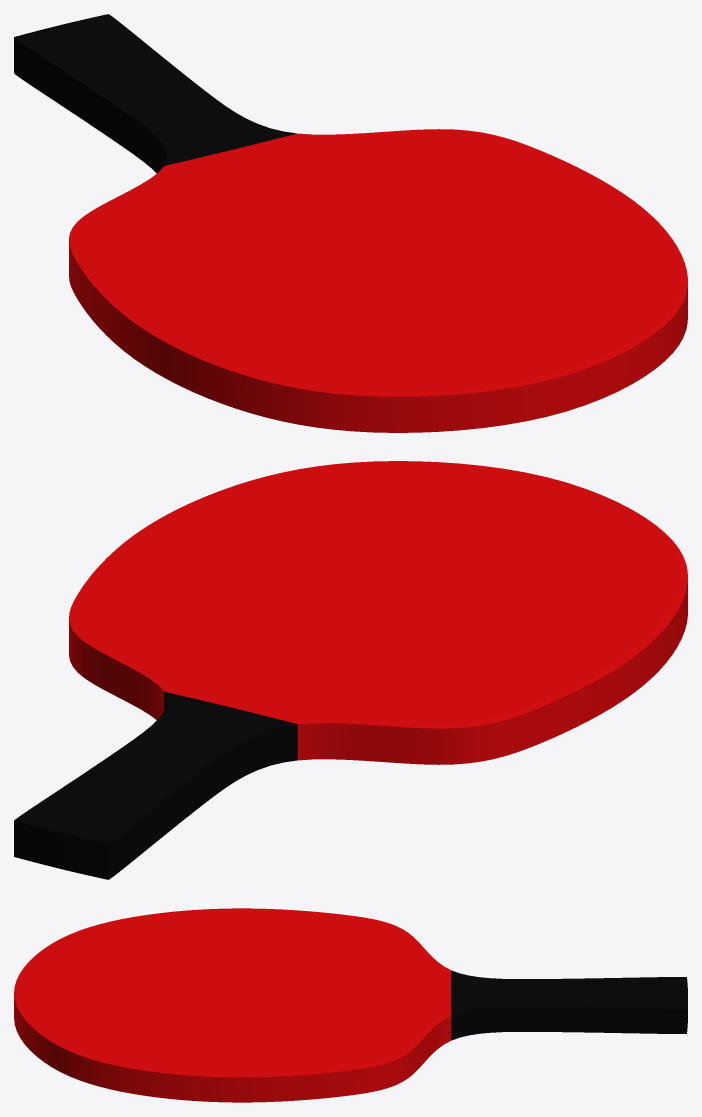
The model's file is tabble-tennis-racket.fbx.
The picture shows the model from 3 angles, top to bottom: view 1: azimuth 30°, elevation 25°; view 2: azimuth 150°, elevation 25°; view 3: azimuth 270°, elevation 25°; orthographic projection. The views are drawn at different scales.
Parts seen in each view (by area): view 1: racket; view 2: racket; view 3: racket.
Boxes of the visible parts, left/top/right/bottom form: racket: left=14, top=14, right=687, bottom=432; racket: left=14, top=461, right=687, bottom=879; racket: left=14, top=908, right=687, bottom=1102.
Bounding box in the file's own units: 49.45 × 3.44 × 83.3.
